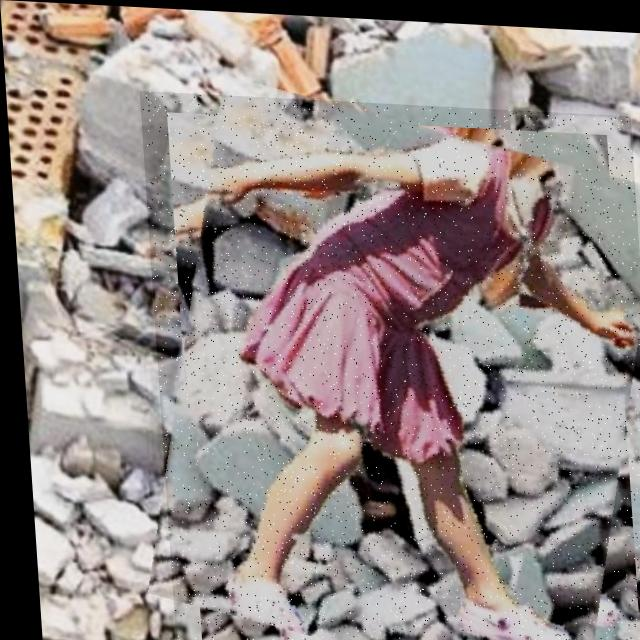Person in Rubble: (138, 89, 640, 640)
